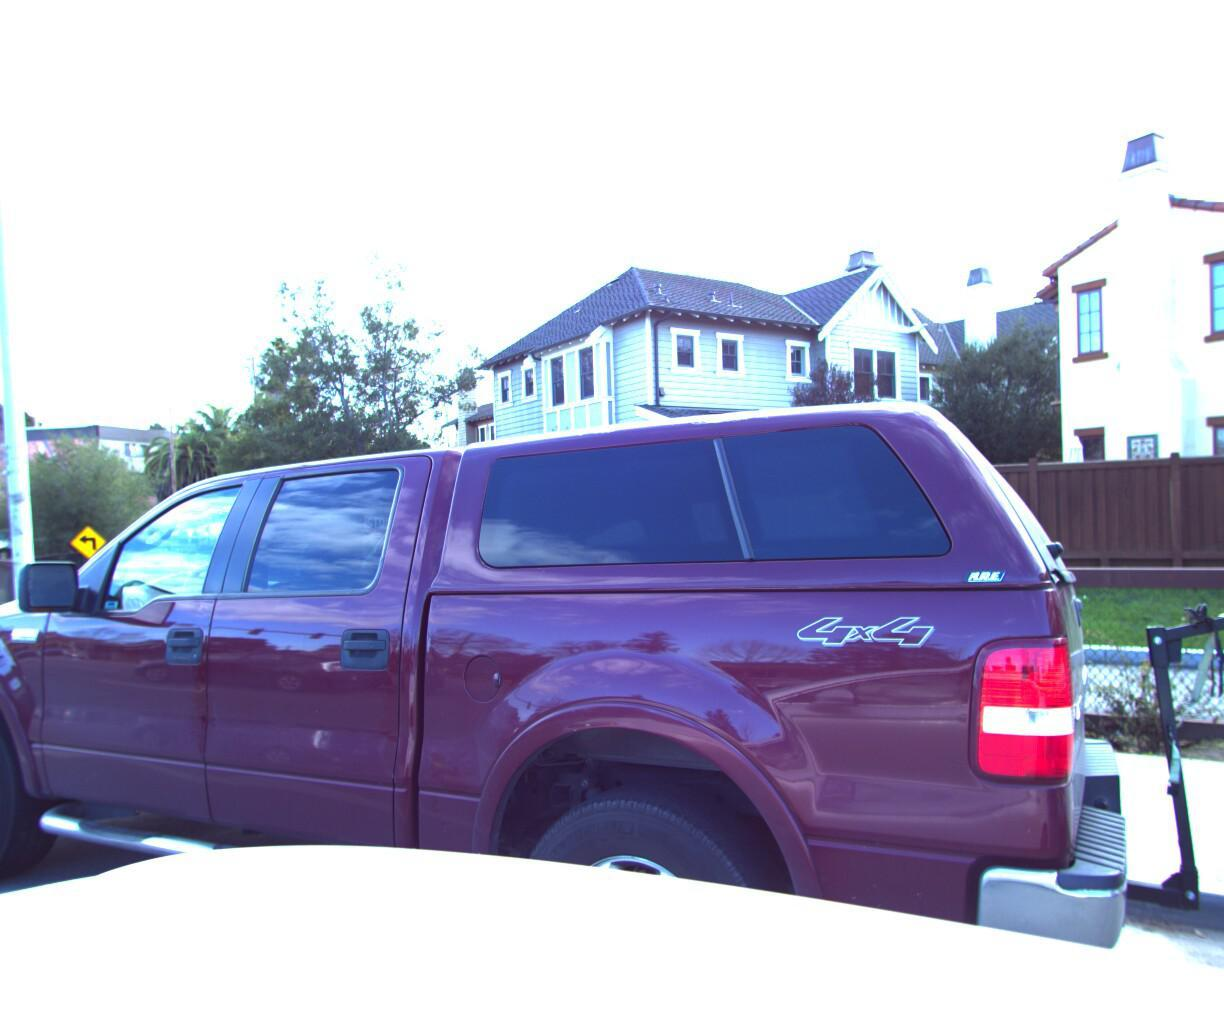car: (0, 310, 1224, 1024), (0, 552, 65, 841), (0, 518, 70, 558)
